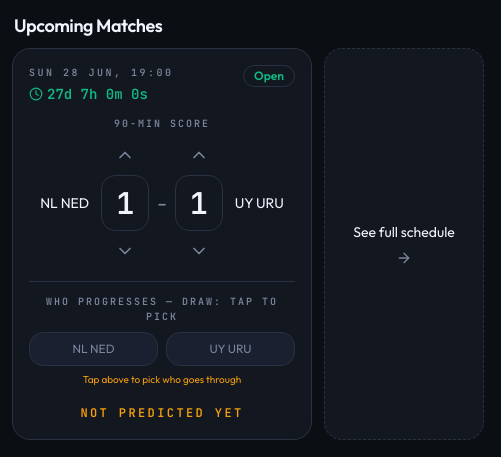
Scenario: UpcomingMatchesCarousel › highlights a knockout draw winner immediately after tap
Expected: the text "Who progresses — draw: tap to pick" is shown, [29,294,295,324]
Click the button "UY URU": coordinates (230, 349) [166,332,295,366]
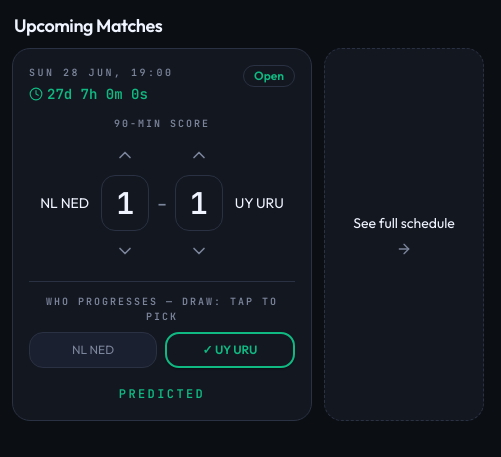
Result: the button "✓ UY URU" is shown at [165,332,295,368]
